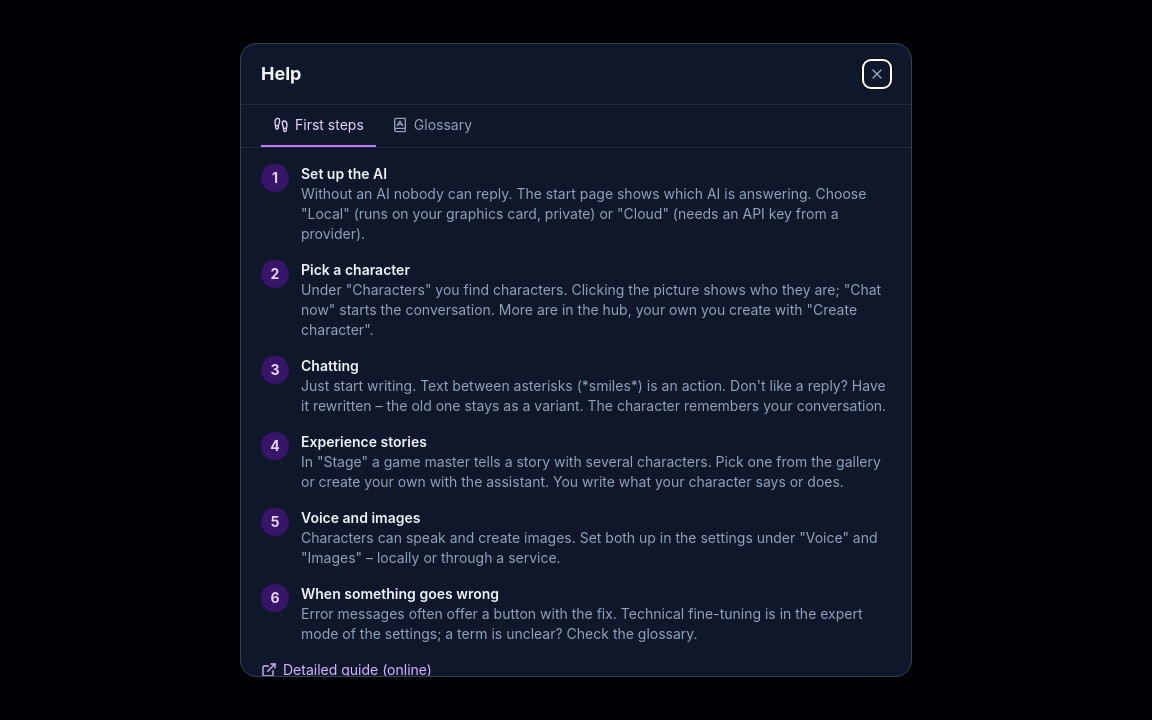
HelpDialog › shows the first steps and finds terms in the glossary
Check: the text "Set up the AI" is shown, box [301, 165, 387, 182]
Click the tab "Glossary" at coordinates (432, 126), box [380, 105, 484, 147]
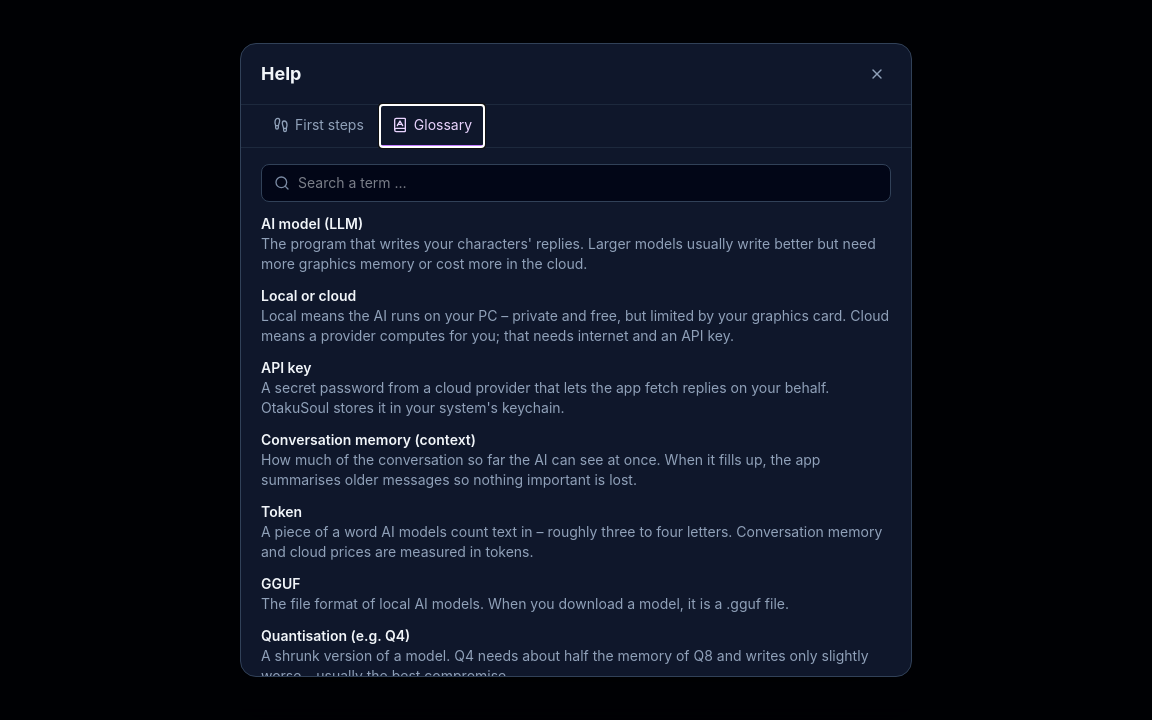
Type "graphics" into the field labelled "Search a term …" at coordinates (588, 183), box [298, 173, 878, 193]
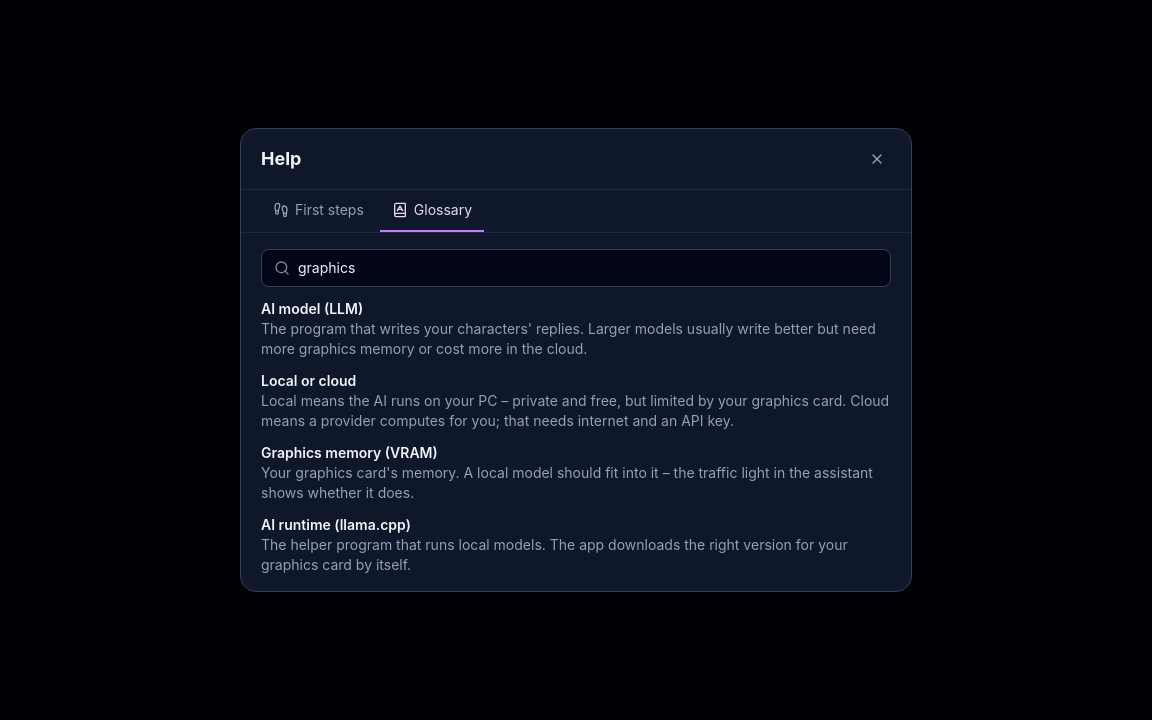
Check: the text "Graphics memory (VRAM)" is shown, box [261, 444, 438, 461]
